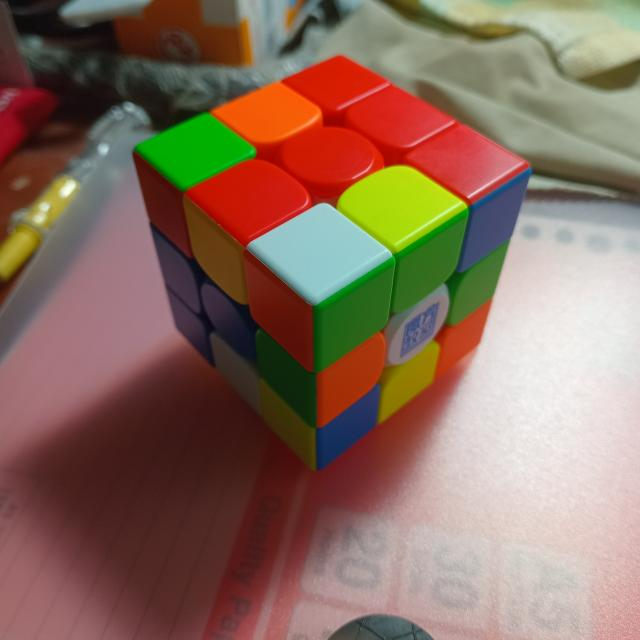back: (133, 150, 317, 470)
right: (134, 56, 529, 306)
rubik: (127, 50, 538, 477)
up: (313, 168, 531, 470)
